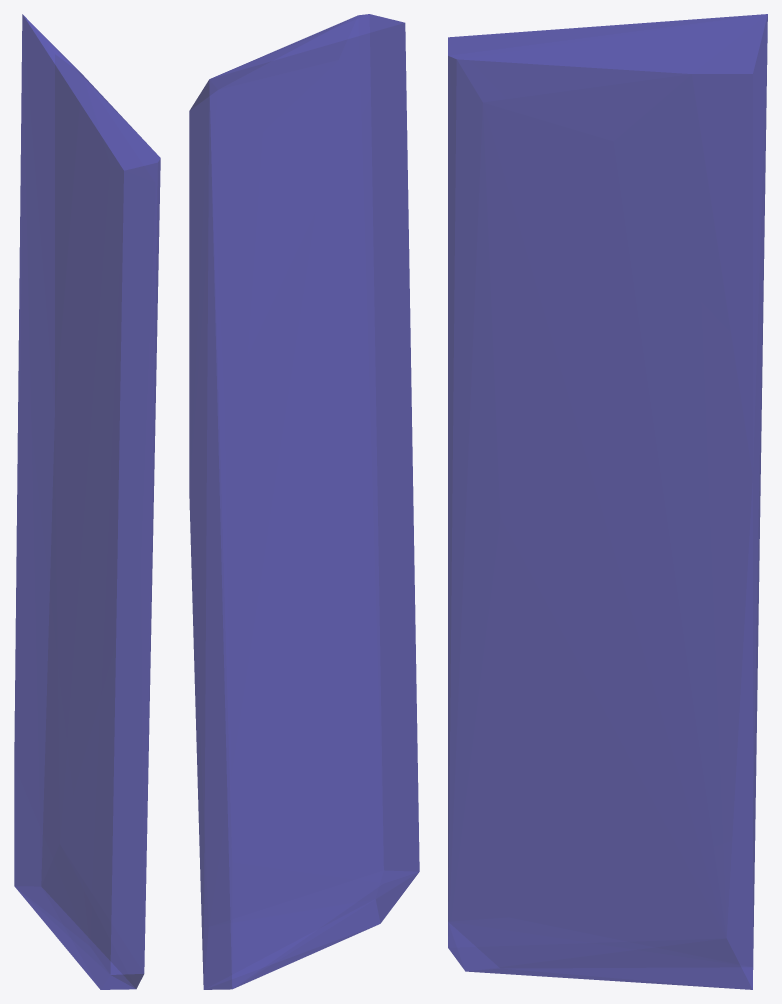
3 renders of one model, left to right at view 1: azimuth 30°, elevation 25°; view 2: azimuth 150°, elevation 25°; view 3: azimuth 270°, elevation 25°, orthographic. The views are drawn at different scales.
Visible parts, largest first — view 1: Shape_IndexedFaceSet.013_Shape_IndexedFaceSet.12335; view 2: Shape_IndexedFaceSet.013_Shape_IndexedFaceSet.12335; view 3: Shape_IndexedFaceSet.013_Shape_IndexedFaceSet.12335.
Boxes of the visible parts, left/top/right/bottom form: Shape_IndexedFaceSet.013_Shape_IndexedFaceSet.12335: left=14, top=14, right=160, bottom=989; Shape_IndexedFaceSet.013_Shape_IndexedFaceSet.12335: left=189, top=14, right=419, bottom=989; Shape_IndexedFaceSet.013_Shape_IndexedFaceSet.12335: left=448, top=14, right=767, bottom=989.
Bounding box in the file's own units: 0.0299 × 0.3085 × 0.0915.
